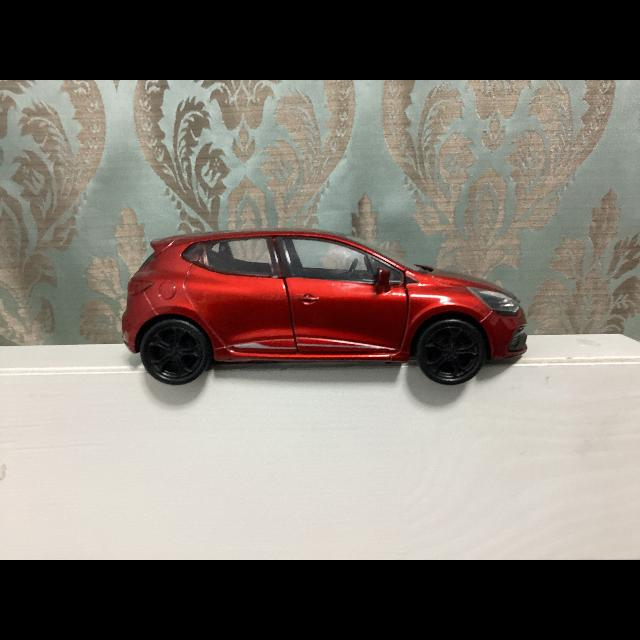Dogru_Jant: (424, 325, 478, 377), (148, 326, 200, 376)
